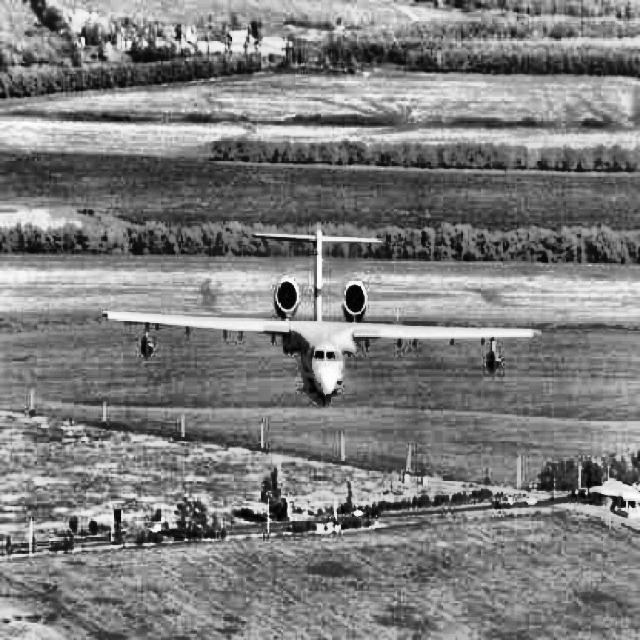Be200: (99, 221, 542, 407)
